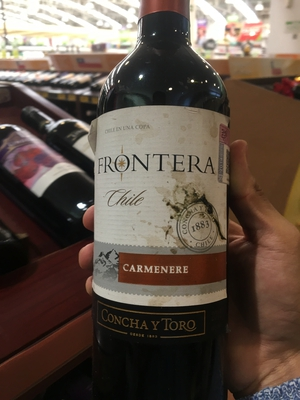frontera carmenere: (86, 6, 231, 400)
